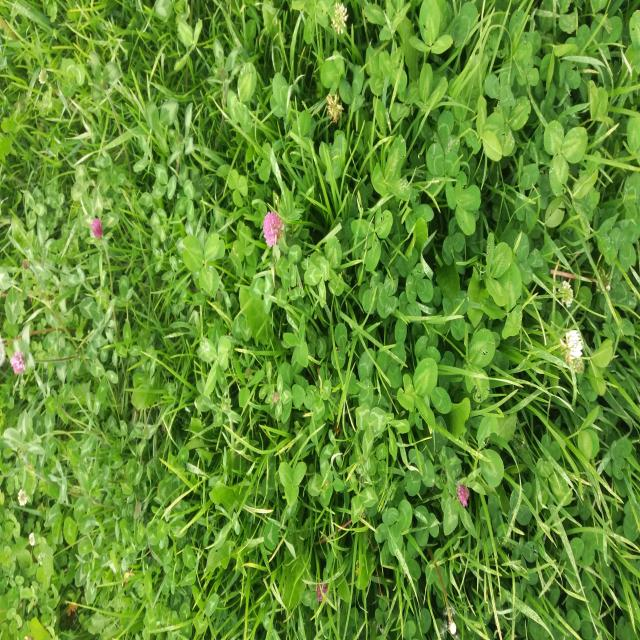Four Leaf Clover: (446, 170, 481, 236)
